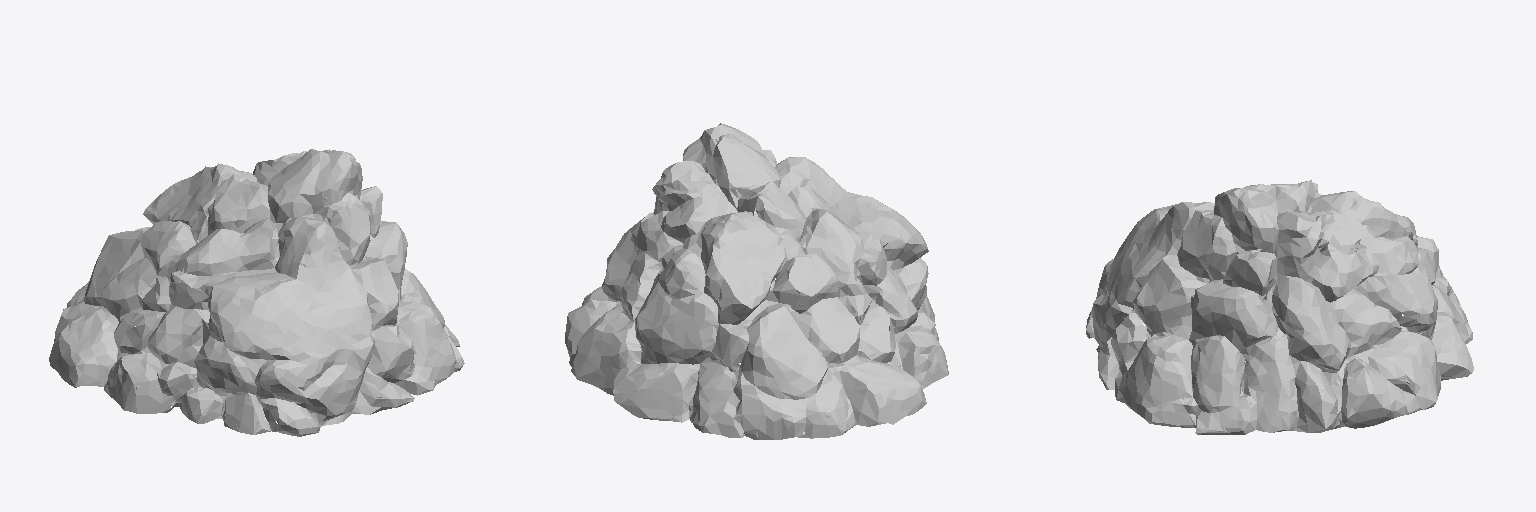
Rendered from ores.obj.
3 views of the same model, side by side, from view 1: azimuth 30°, elevation 25°; view 2: azimuth 150°, elevation 25°; view 3: azimuth 270°, elevation 25° (orthographic).
Visible parts, largest first — view 1: ores; view 2: ores; view 3: ores.
Part boxes in pixels (bbox=[...]): ores: bbox=[49, 149, 464, 436]; ores: bbox=[565, 123, 948, 439]; ores: bbox=[1086, 180, 1473, 434].
Bounding box in the file's own units: 2 × 1.13 × 1.97.